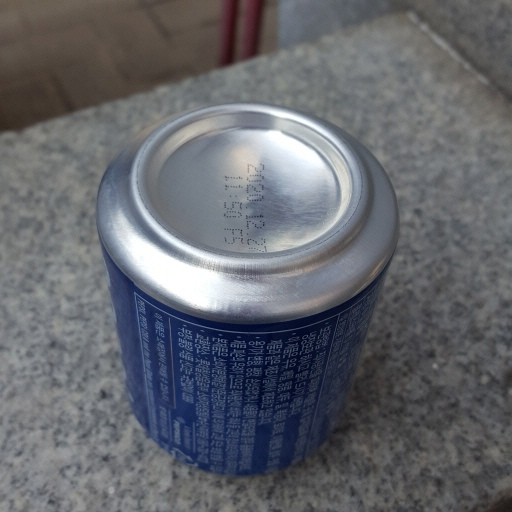Metal_0: (93, 100, 401, 477)
